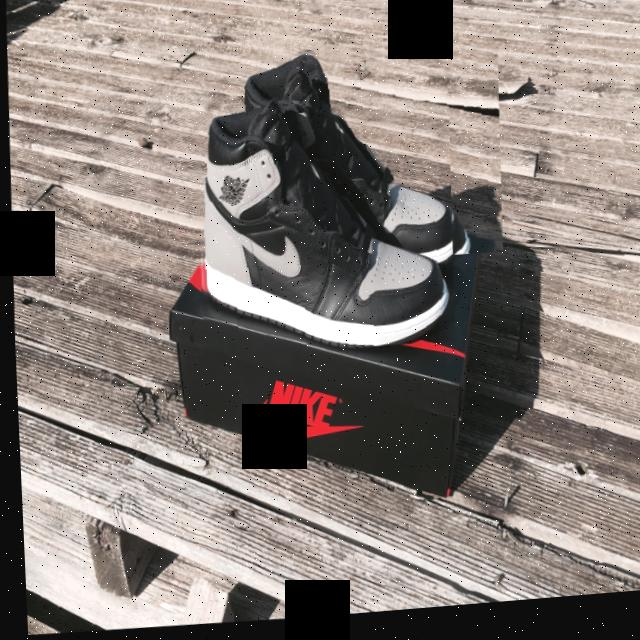shoe: (186, 105, 455, 364), (225, 38, 504, 276)
